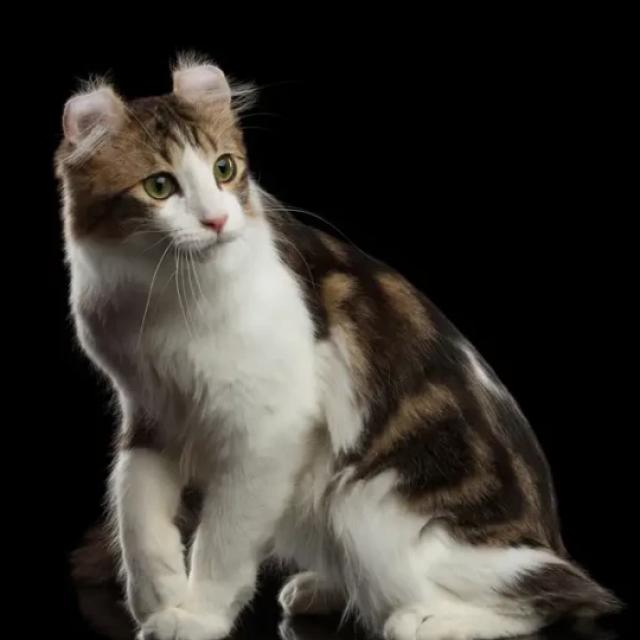American Curl: (46, 55, 624, 640)
